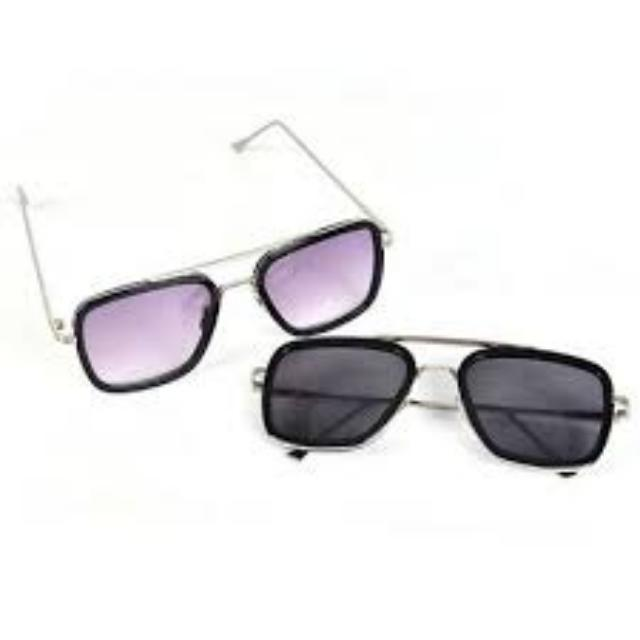sunglasses: (19, 145, 401, 361), (262, 312, 626, 480)
